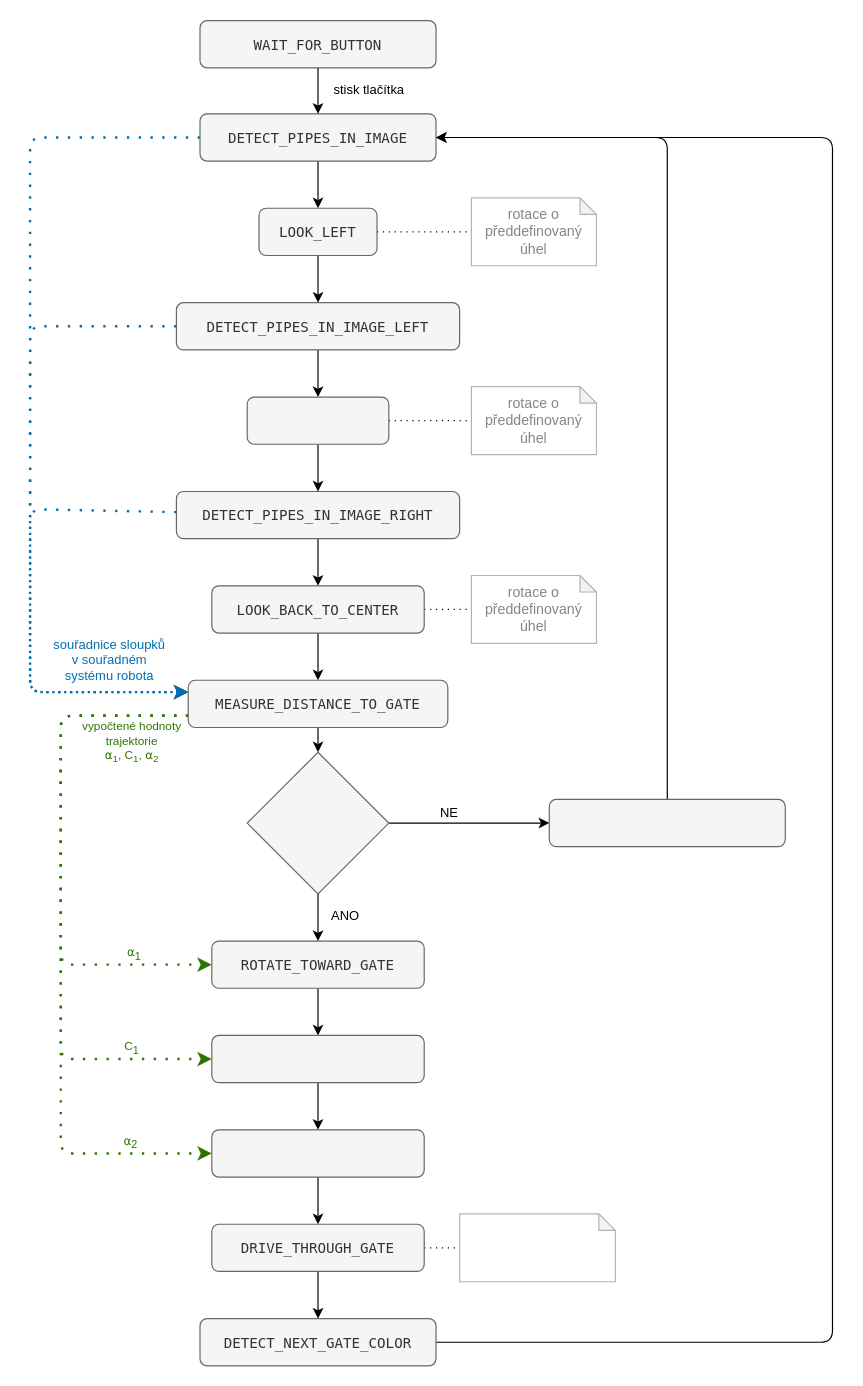
The diagram is 863 pixels wide and 1386 high, and some of its shapes have lost their labels. Each missing label, with the box of its shape:
DRIVE_TOWARD_GATE: (211, 1034, 424, 1083)
INCREASE_LOOKOUT_ANGLE: (548, 798, 785, 847)
LOOK_RIGHT: (246, 396, 389, 444)
Nalezeny alespoň dva sloupky?: (246, 751, 389, 894)
pohyb dopředu o předdefinovanou vzdálenost: (458, 1213, 615, 1282)
ROTATE_TO_FACE_GATE: (211, 1129, 424, 1177)
